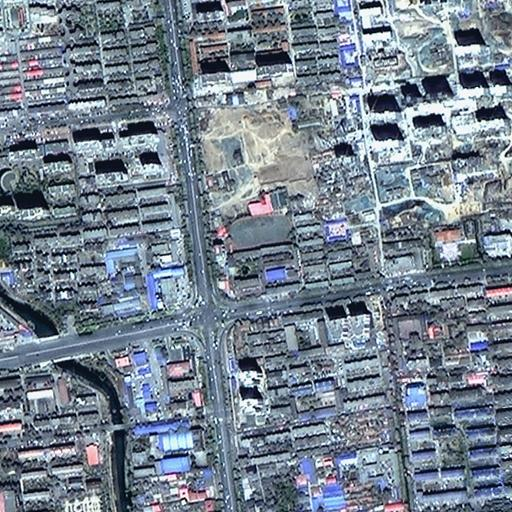school: (220, 206, 306, 301)
